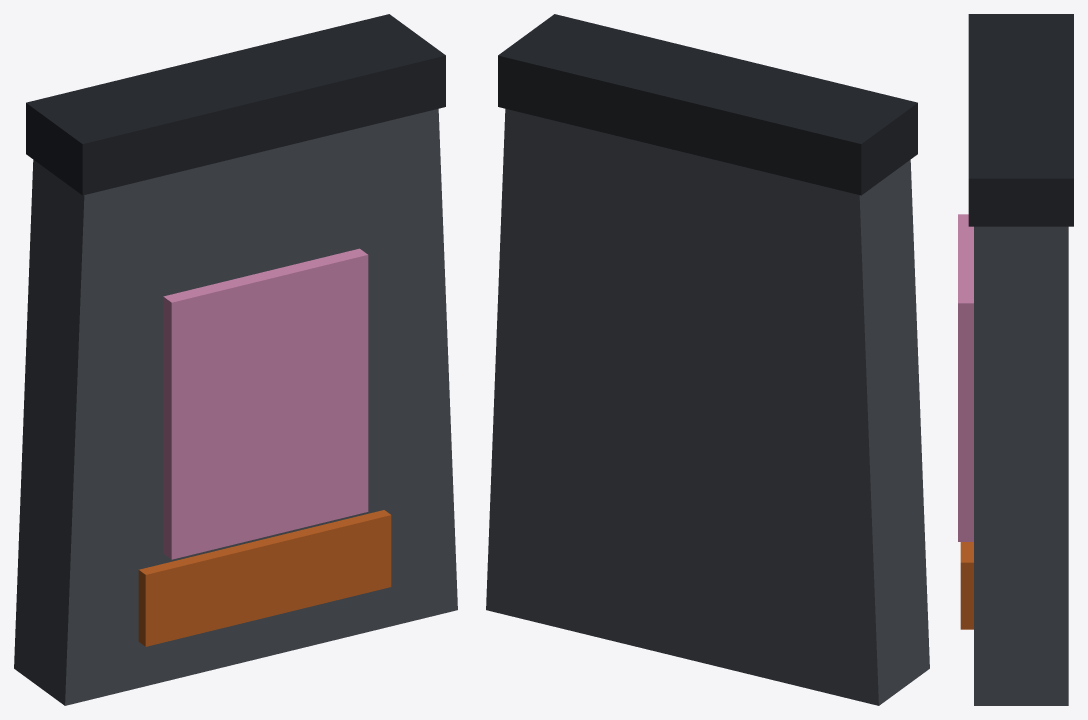
The model's file is giggledust.lod.glb.
3 renders of one model, left to right at view 1: azimuth 30°, elevation 25°; view 2: azimuth 150°, elevation 25°; view 3: azimuth 270°, elevation 25°, orthographic. The views are drawn at different scales.
Parts seen in each view (by area): view 1: m; view 2: m; view 3: m.
Boxes of the visible parts, box(x1,y1,x2,y2) form: m: box(14, 14, 457, 705); m: box(486, 14, 929, 705); m: box(958, 14, 1073, 705).
Bounding box in the file's own units: 0.0734 × 0.1 × 0.0202.
